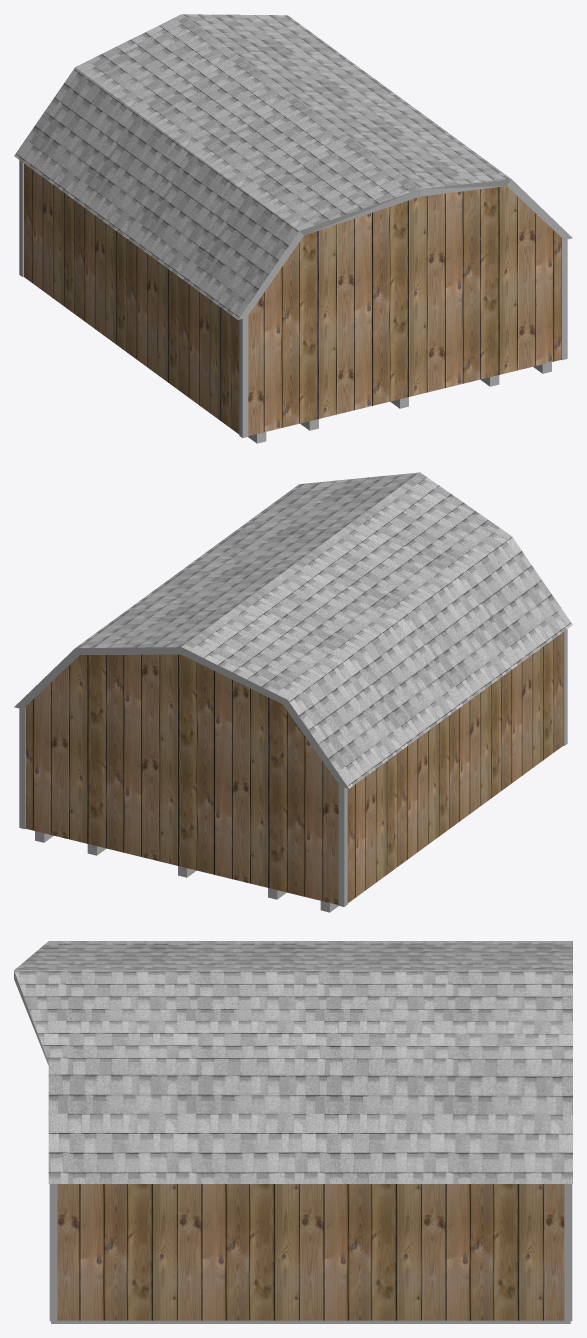
The model's file is Mini Barn Sheds_12x14.obj.
3 renders of one model, top to bottom at view 1: azimuth 30°, elevation 25°; view 2: azimuth 150°, elevation 25°; view 3: azimuth 270°, elevation 25°, orthographic. The views are drawn at different scales.
Parts seen in each view (by area): view 1: Shed, Roof, Sides, Trim, Floor; view 2: Shed, Roof, Sides, Trim, Floor; view 3: Roof, Shed, Trim, Floor.
Boxes of the visible parts, x1,y1,x2,y2 form: Shed: [24, 163, 563, 435]; Roof: [14, 14, 511, 319]; Sides: [238, 179, 572, 319]; Trim: [19, 160, 567, 437]; Floor: [248, 362, 551, 443]; Shed: [24, 632, 562, 904]; Roof: [76, 472, 572, 788]; Sides: [14, 647, 348, 788]; Trim: [19, 629, 567, 906]; Floor: [35, 831, 338, 912]; Roof: [14, 941, 572, 1183]; Shed: [57, 1184, 564, 1320]; Trim: [49, 1184, 572, 1321]; Floor: [51, 1320, 570, 1323].
Bounding box in the file's own units: 3.72 × 2.44 × 4.59.
